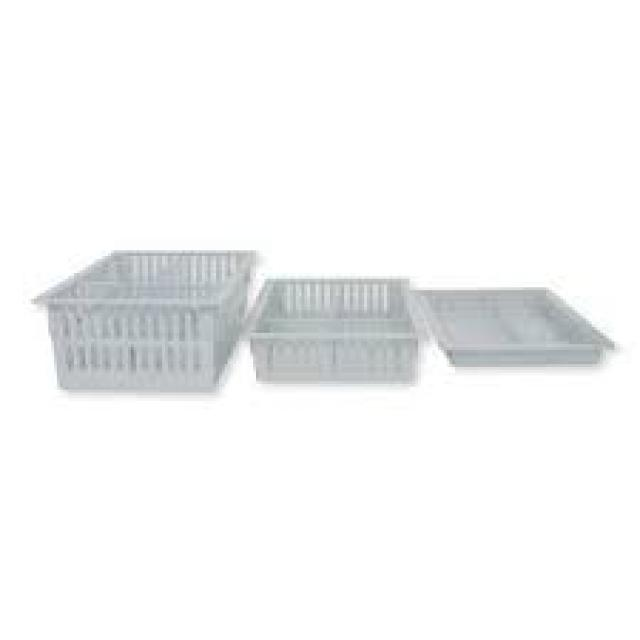basket: (37, 253, 255, 391), (253, 279, 418, 384)
